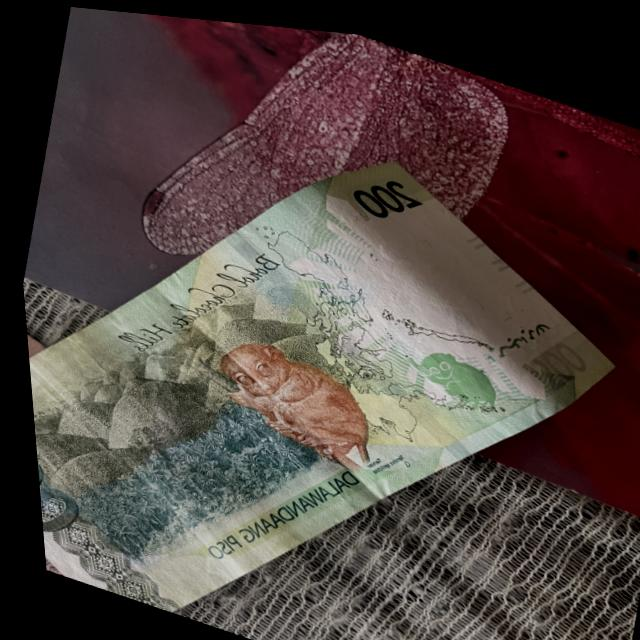200_tarsier: (180, 300, 411, 497)
200_tarsier_watermark: (394, 318, 518, 422)
